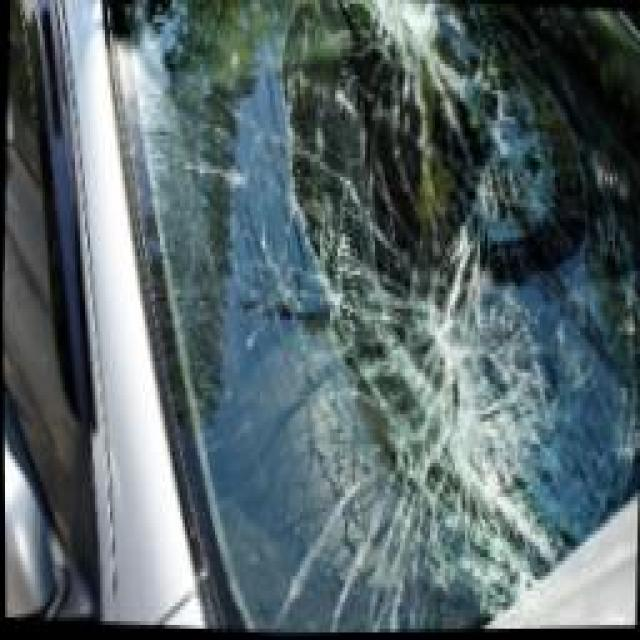Windshield: (107, 0, 640, 630)
